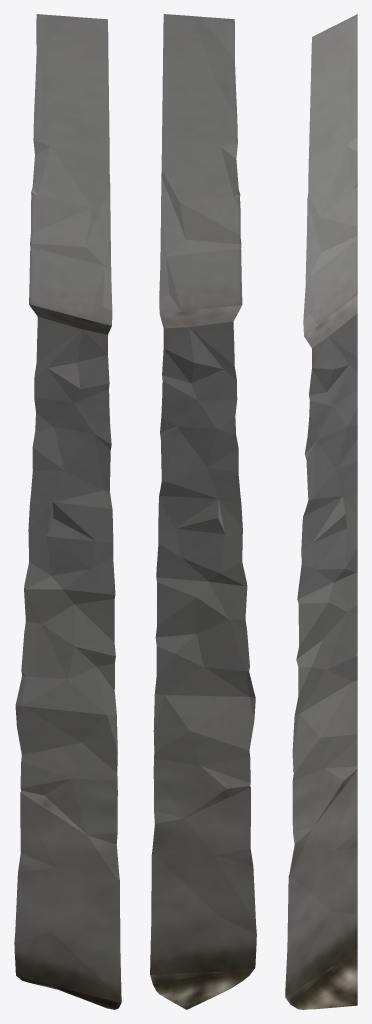
The picture shows the model from 3 angles, left to right: view 1: azimuth 30°, elevation 25°; view 2: azimuth 210°, elevation 25°; view 3: azimuth 270°, elevation 25°; orthographic projection.
Size of the model in its own units: 0.1188 by 1.59 by 0.1076.
1 material, 1 textured.
